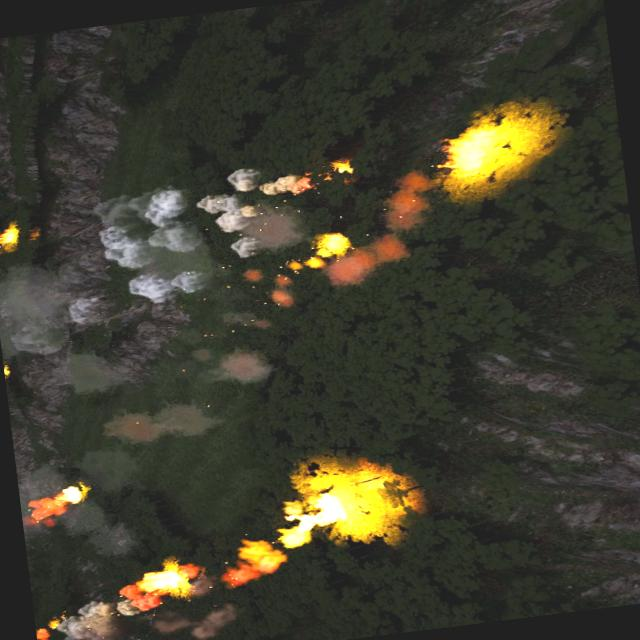fire: (279, 458, 406, 549), (438, 115, 518, 178), (217, 532, 292, 590), (25, 480, 93, 524), (132, 562, 190, 600), (304, 228, 350, 268), (328, 156, 358, 174), (0, 224, 18, 248)
smoke: (91, 153, 325, 307), (32, 563, 255, 640)
